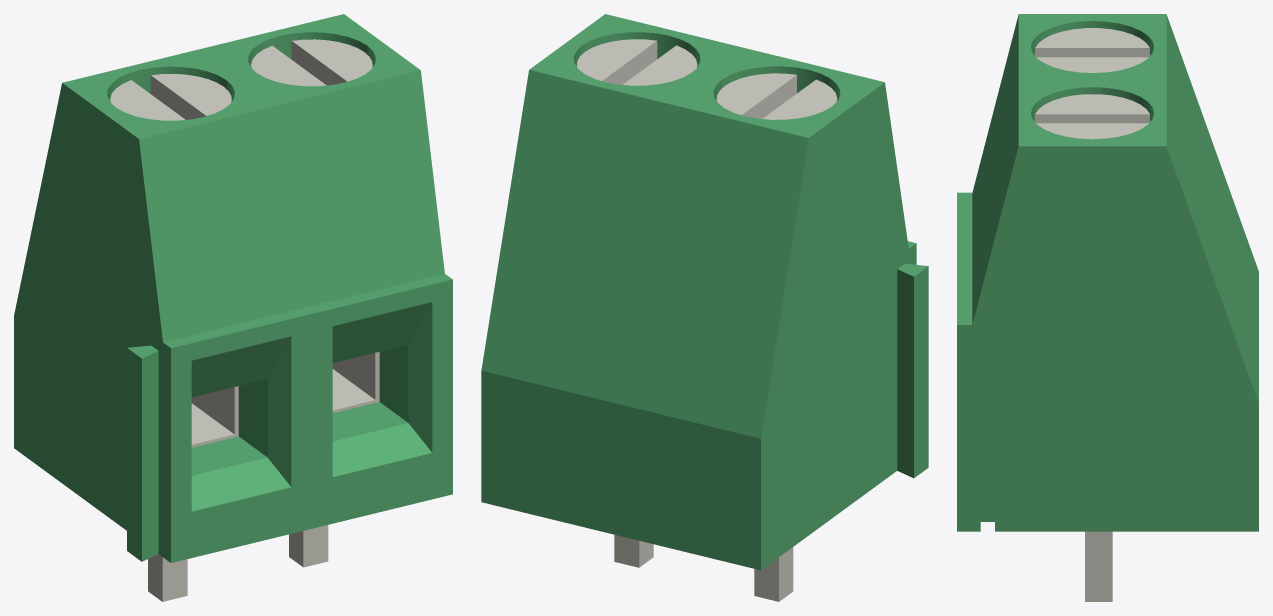
Rendered from kc-terminalblock_phoenix_mkds-1_5-2-5.08_1x02_p5.08mm_horizontal.glb.
3 views of the same model, side by side, from view 1: azimuth 30°, elevation 25°; view 2: azimuth 150°, elevation 25°; view 3: azimuth 270°, elevation 25° (orthographic). The views are drawn at different scales.
Visible parts, largest first — view 1: 0.08333333333333333_0.4166666666666667_0.16666666666666666_0, 0.6666666666666666_0.6666666666666666_0.5833333333333334_0.8; view 2: 0.08333333333333333_0.4166666666666667_0.16666666666666666_0, 0.6666666666666666_0.6666666666666666_0.5833333333333334_0.8; view 3: 0.08333333333333333_0.4166666666666667_0.16666666666666666_0, 0.6666666666666666_0.6666666666666666_0.5833333333333334_0.8.
Part boxes in pixels (x1,y1,x2,y2): 0.08333333333333333_0.4166666666666667_0.16666666666666666_0: (14,14,452,562); 0.6666666666666666_0.6666666666666666_0.5833333333333334_0.8: (110,39,379,601); 0.08333333333333333_0.4166666666666667_0.16666666666666666_0: (481,14,928,570); 0.6666666666666666_0.6666666666666666_0.5833333333333334_0.8: (577,39,837,601); 0.08333333333333333_0.4166666666666667_0.16666666666666666_0: (957,14,1258,531); 0.6666666666666666_0.6666666666666666_0.5833333333333334_0.8: (1035,28,1149,601).
Size of the model in its own units: 1.09 by 1.73 by 0.98.
